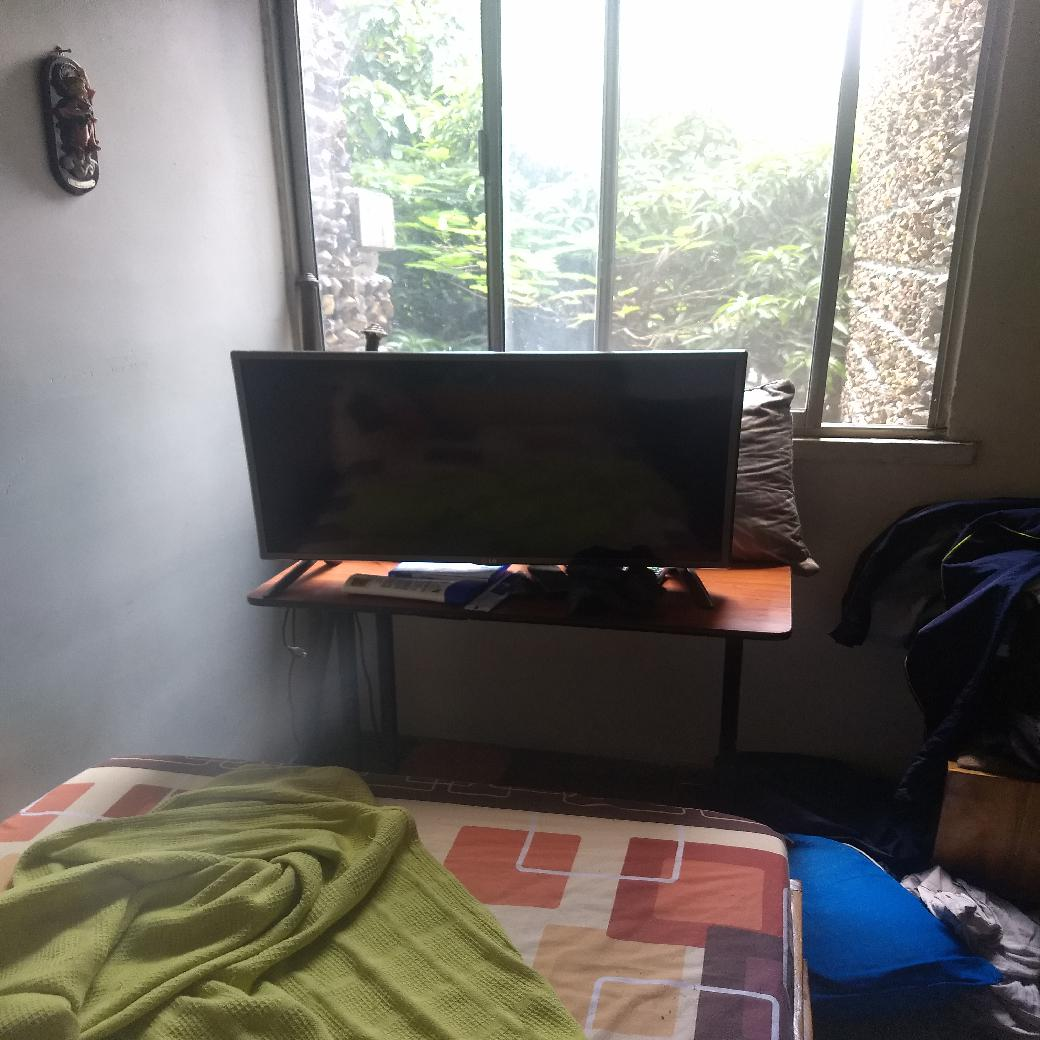tv: (232, 353, 729, 561)
